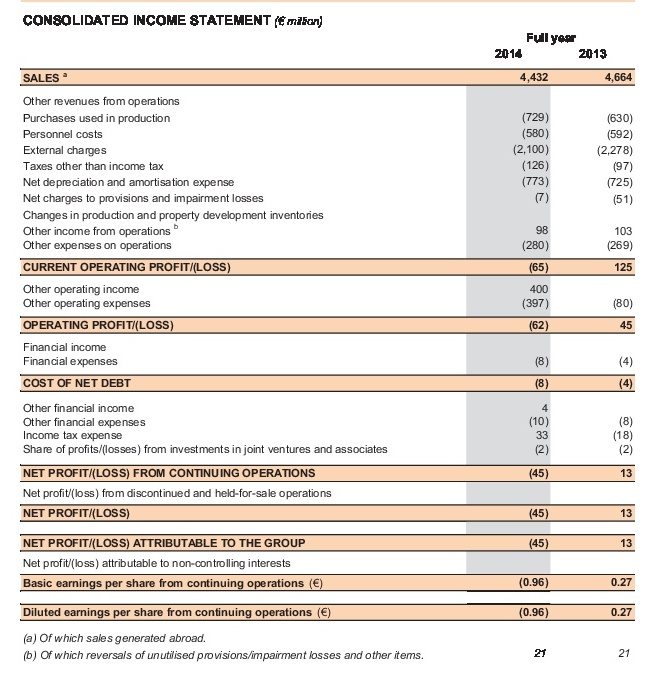table: (0, 0, 652, 677)
